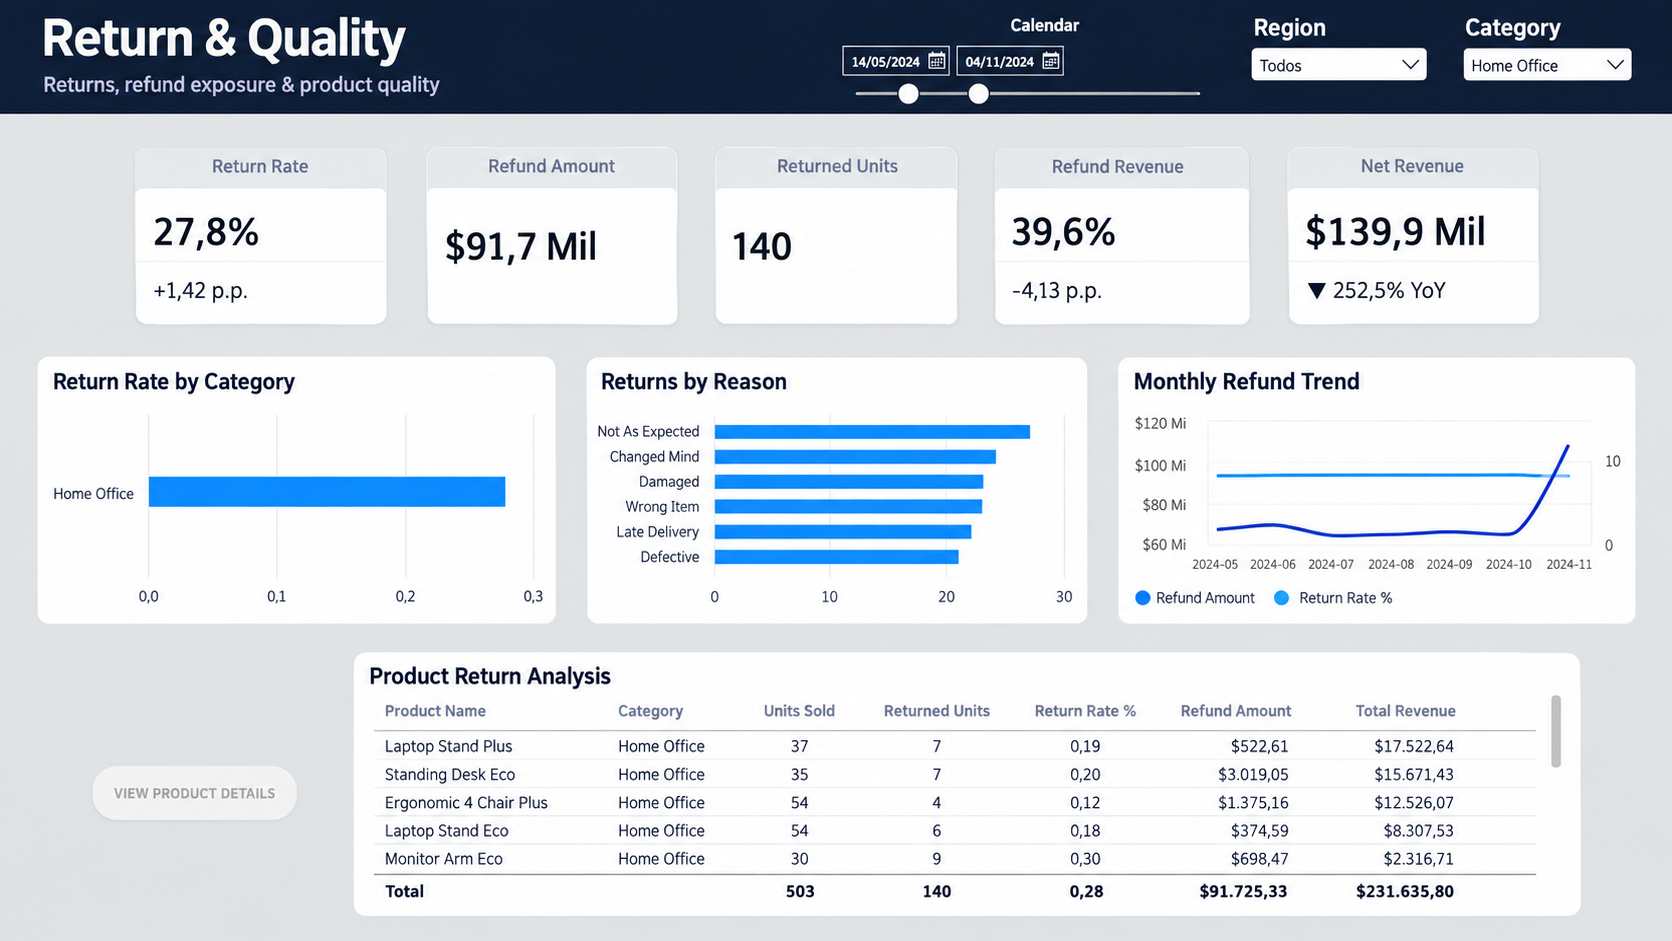

What the dashboard file says about the page in this screenshot:
{"tool":"powerbi","page":{"name":"Returns & Quality","canvas":[1920,1080],"ordinal":4},"visuals":[{"type":"barChart","title":"Returns by Reason","fields":{"Category":["FactReturns.Return Reason"],"Y":["_Measures.Returned Units"]},"box":[733.3,430.6,500,258],"z":0},{"type":"barChart","title":"Return Rate by Category","fields":{"Category":["DimProducts.Category"],"Y":["_Measures.Return Rate %"]},"box":[150,427.8,500,258],"z":1000},{"type":"lineChart","title":"Monthly Refund Trend","fields":{"Category":["DimData.Year-Month"],"Y":["_Measures.Refund Amount"],"Y2":["_Measures.Return Rate %"]},"box":[1272.2,430.6,516,258],"z":2000},{"type":"tableEx","title":"Product Return Analysis","fields":{"Values":["DimProducts.Product Name","DimProducts.Category","_Measures.Units Sold","_Measures.Returned Units","_Measures.Return Rate %","_Measures.Refund Amount","_Measures.Total Revenue"]},"box":[566.7,730.6,829.4,279.4],"z":3000},{"type":"shape","box":[0,0,1920,128],"z":4000},{"type":"textbox","box":[49,16.3,544.9,63.3],"z":5000},{"type":"textbox","box":[49.7,79.9,423.4,45.4],"z":6000},{"type":"slicer","fields":{"Values":["DimRegion.Region"]},"box":[1469.2,15.4,193,83],"z":7000},{"type":"slicer","title":"Calendar","fields":{"Values":["DimData.Date"]},"box":[977.6,12.2,407.7,115.4],"z":8000},{"type":"slicer","fields":{"Values":["DimProducts.Category"]},"box":[1690.4,15.4,193,83],"z":9000},{"type":"cardVisual","title":"Return Rate","fields":{"Data":["_Measures.Return Rate %"]},"box":[312.6,170.3,203,192.5],"z":11000},{"type":"cardVisual","title":"Refund Amount","fields":{"Data":["_Measures.Refund Amount"]},"box":[583.6,170.3,203,192.5],"z":12000},{"type":"cardVisual","title":"Refund Revenue","fields":{"Data":["_Measures.Refund % Revenue"]},"box":[1137.1,170.3,203,192.5],"z":13000},{"type":"cardVisual","title":"Returned Units","fields":{"Data":["_Measures.Returned Units"]},"box":[865.3,171.4,195.9,191.8],"z":14000},{"type":"cardVisual","title":"Net Revenue","fields":{"Data":["_Measures.Net Revenue"]},"box":[1412.7,170.3,201.5,192.2],"z":15000},{"type":"actionButton","title":"VIEW PRODUCT DETAILS","box":[303.8,842.3,192.8,56.5],"z":16000}]}

Visuals, with their boxes in screenshot pixels (x1, y1, x2, y2), scaled from the page's 1920x1080 canvas onto the 1672x941 screenshot:
"Returns by Reason" barChart: [639,375,1074,600]
"Return Rate by Category" barChart: [131,373,566,598]
"Monthly Refund Trend" lineChart: [1108,375,1557,600]
"Product Return Analysis" tableEx: [494,637,1216,880]
shape: [0,0,1671,112]
textbox: [43,14,517,69]
textbox: [43,70,412,109]
slicer - DimRegion.Region: [1279,13,1447,86]
"Calendar" slicer: [851,11,1206,111]
slicer - DimProducts.Category: [1472,13,1640,86]
"Return Rate" cardVisual: [272,148,449,316]
"Refund Amount" cardVisual: [508,148,685,316]
"Refund Revenue" cardVisual: [990,148,1167,316]
"Returned Units" cardVisual: [754,149,924,316]
"Net Revenue" cardVisual: [1230,148,1406,316]
"VIEW PRODUCT DETAILS" actionButton: [265,734,432,783]
